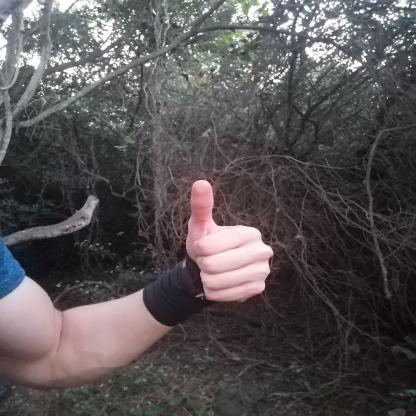ALIF: (167, 170, 285, 317)
